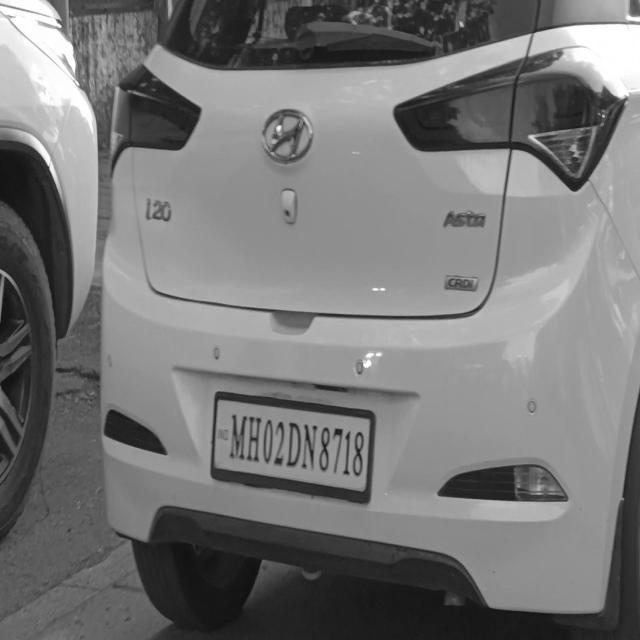license-plate: (211, 393, 374, 508)
